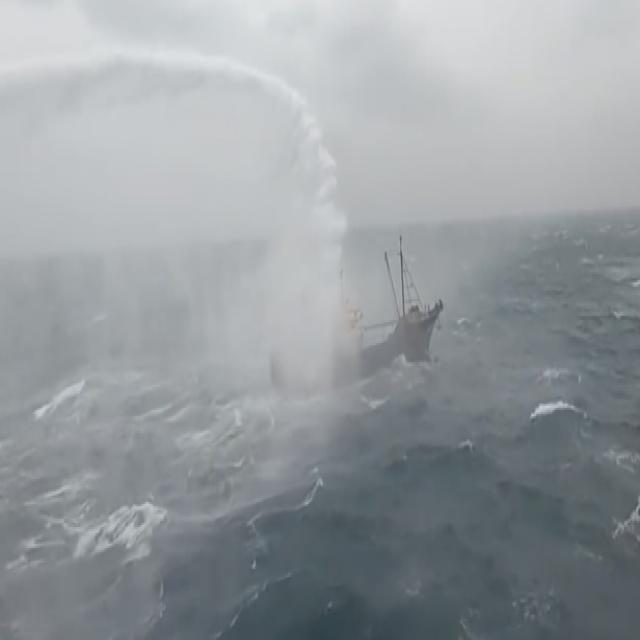fishing boat: (275, 216, 445, 390)
